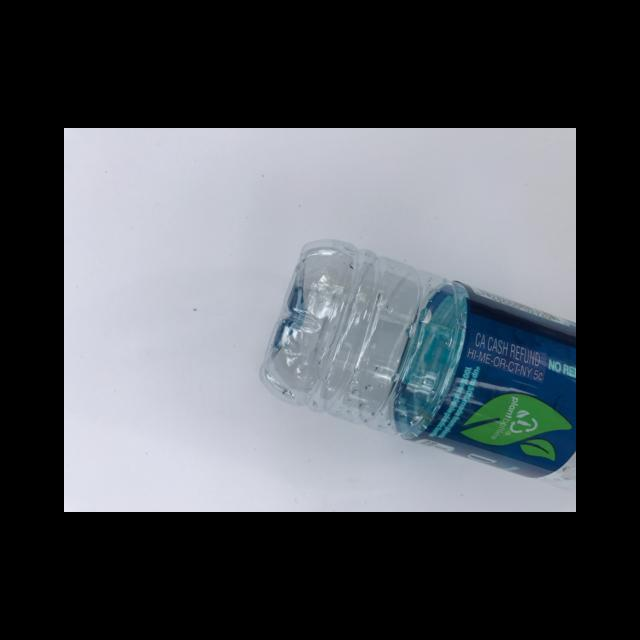plastic: (259, 238, 575, 493), (391, 280, 575, 478)
